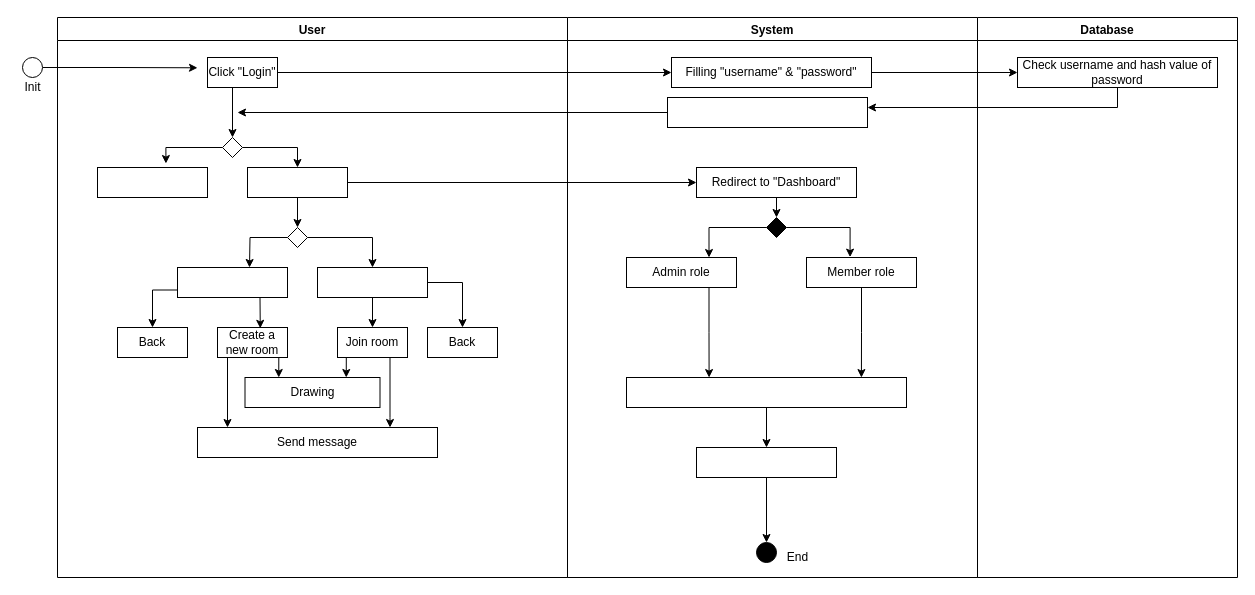
This 1255x595 diagram has some shape labels left out. Here are the shapes that lost their labels. From the top down, the centre of each, then its label:
point (767, 112): Validate username/password
point (152, 182): permission denied
point (297, 182): Accessable
point (232, 282): Admin UI
point (372, 282): Member UI
point (766, 392): Render working space
point (766, 462): Click "Exit"
